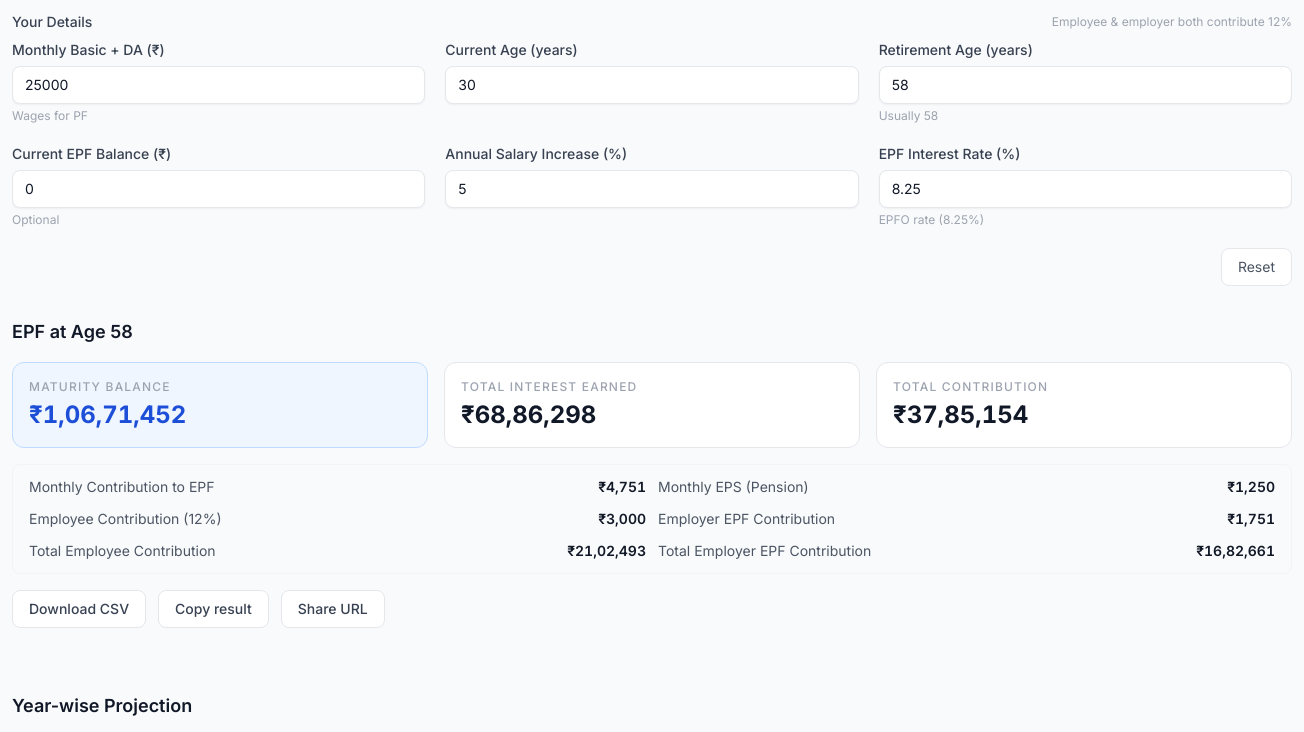
it: EPFCalculator › updates the results heading when retirement age changes
Expected: the heading "EPF at Age 58" is shown, [12,321,133,342]
Replace the text in the number field labelled "Retirement Age (years)" with "60". click: (1085, 85)
box: [879,66,1292,104]
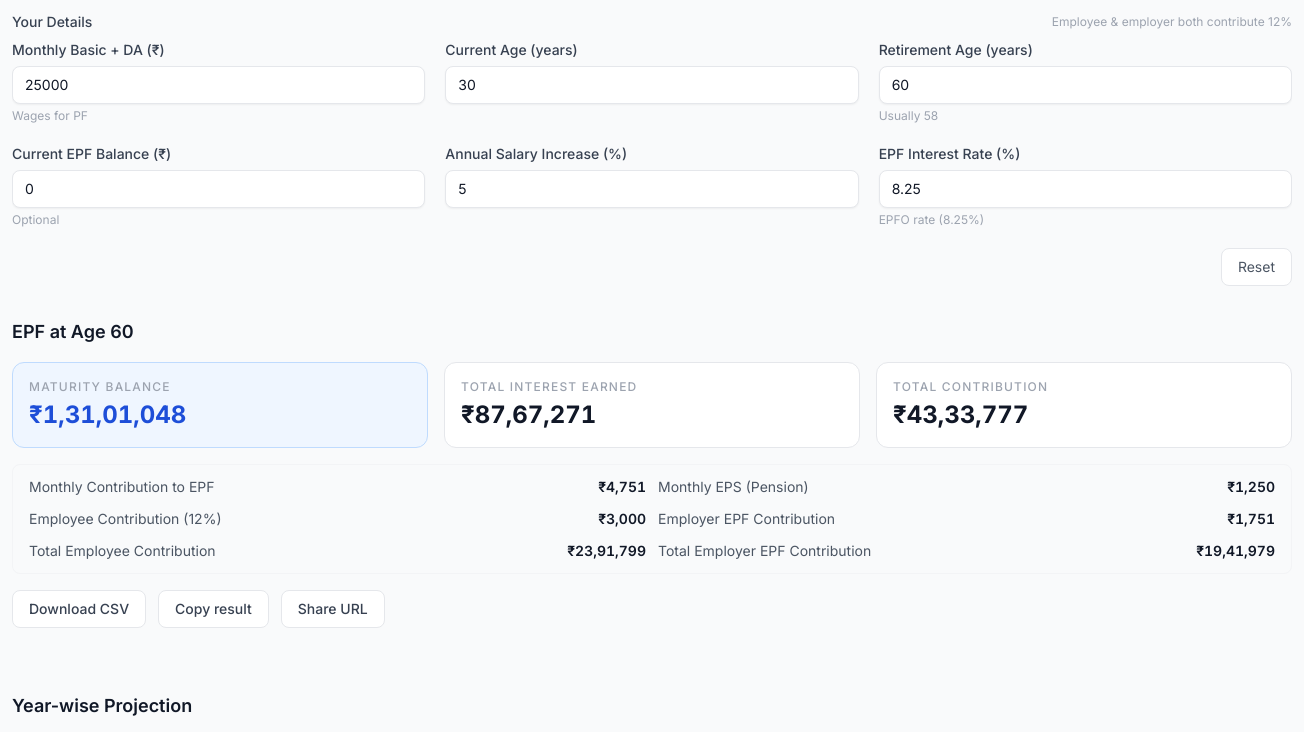
Now the heading "EPF at Age 60" is shown, box [12,321,134,342]
